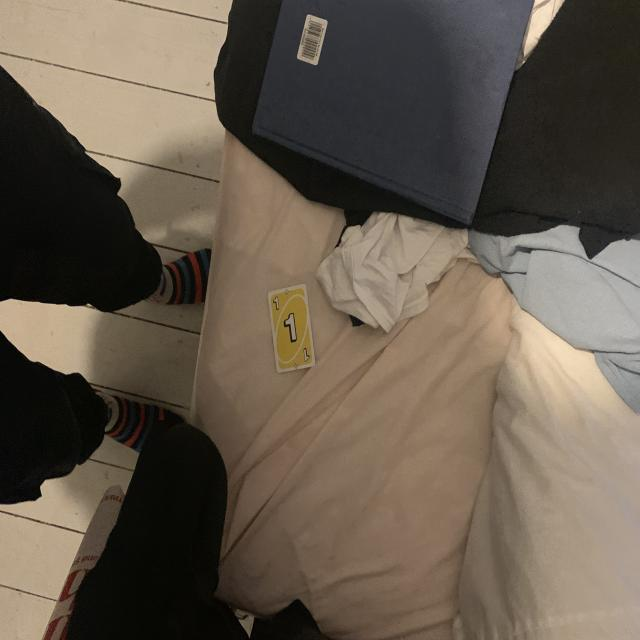lyellow-1: (271, 294, 282, 314)
